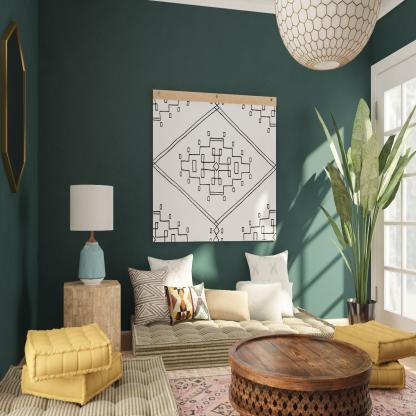bantal: (130, 266, 170, 322), (245, 249, 289, 284), (149, 255, 197, 287), (169, 286, 207, 320), (247, 283, 281, 320), (207, 289, 247, 318)
lampu: (67, 182, 116, 278)
lukisan: (150, 88, 279, 243)
tanaman: (318, 103, 403, 324)
